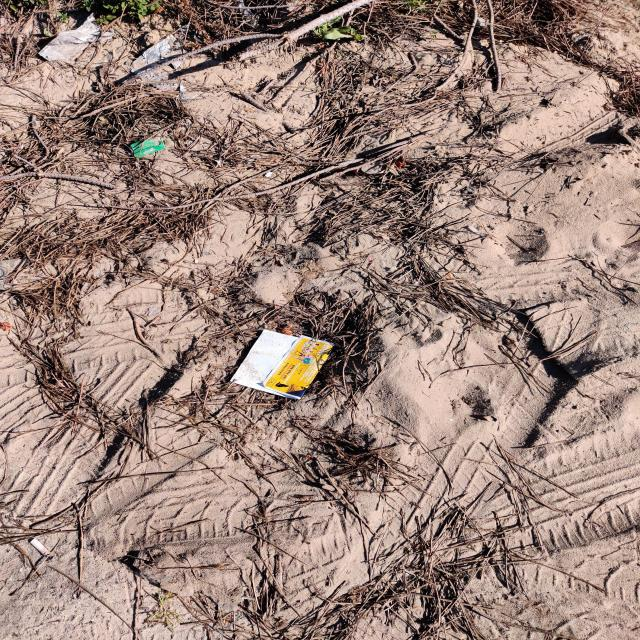litter: (133, 551, 256, 610), (230, 330, 335, 398), (129, 35, 206, 99), (37, 12, 114, 61), (131, 139, 164, 157), (28, 538, 50, 556)
